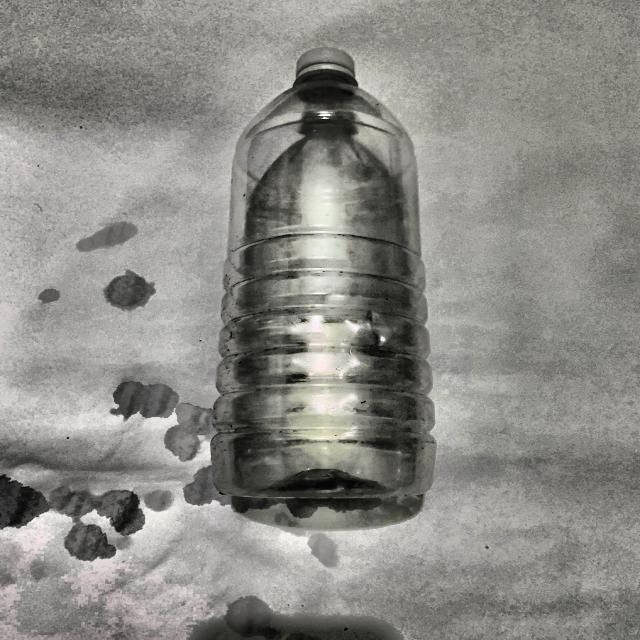Bottles: (208, 41, 448, 506)
